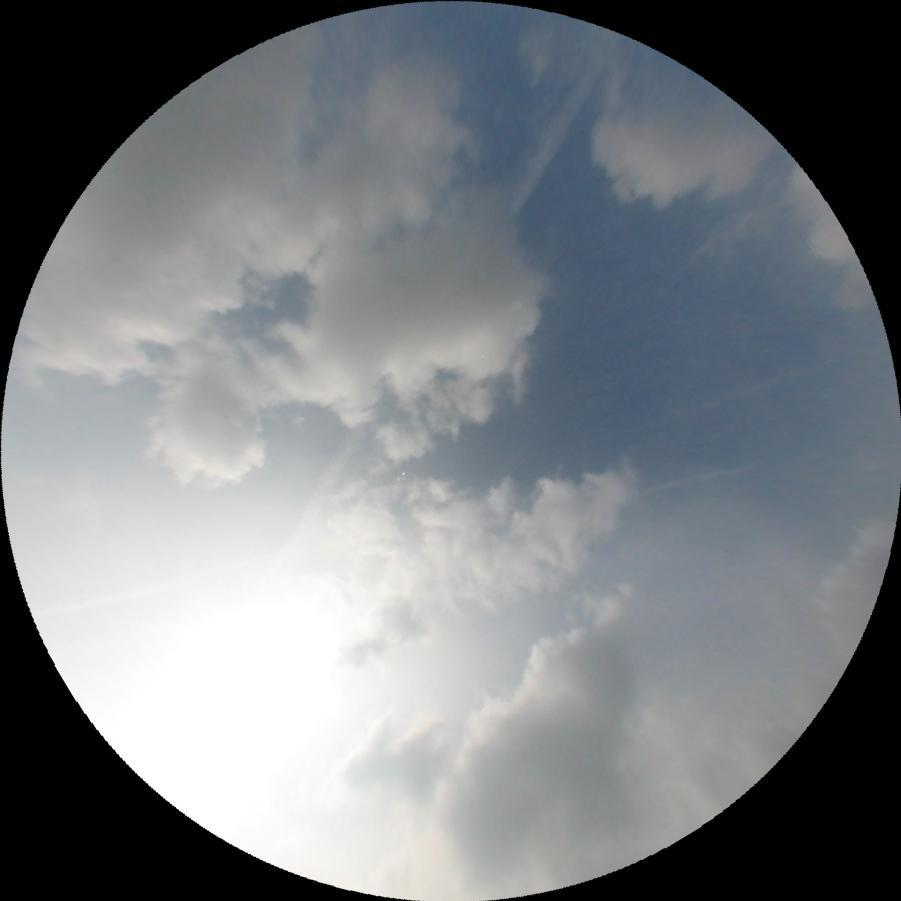contrail old: (668, 352, 833, 424)
contrail veryold: (245, 24, 620, 616)
sun: (66, 557, 394, 863)
unknow: (32, 579, 190, 615), (628, 458, 752, 500)
